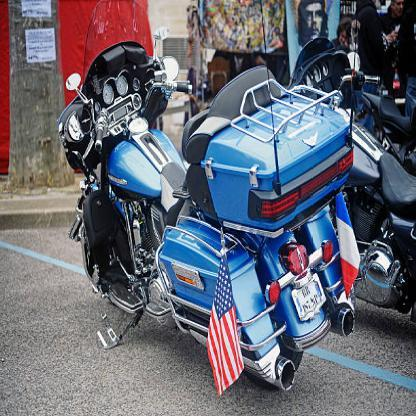Motorcycle: (45, 37, 358, 391)
